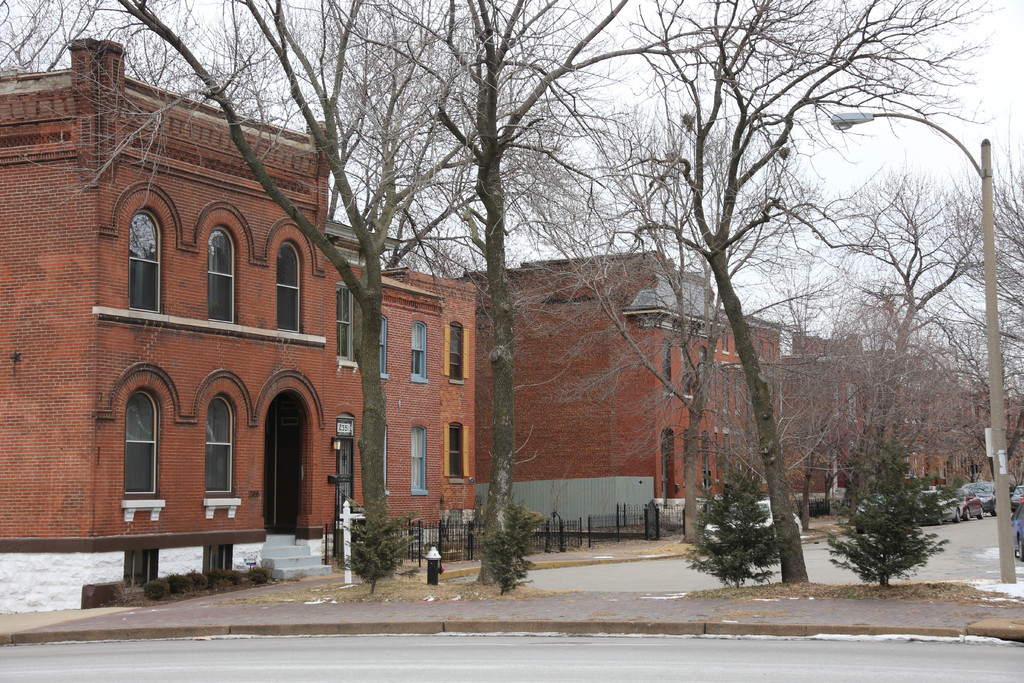Tree: (0, 0, 1023, 585), (566, 0, 999, 578)
